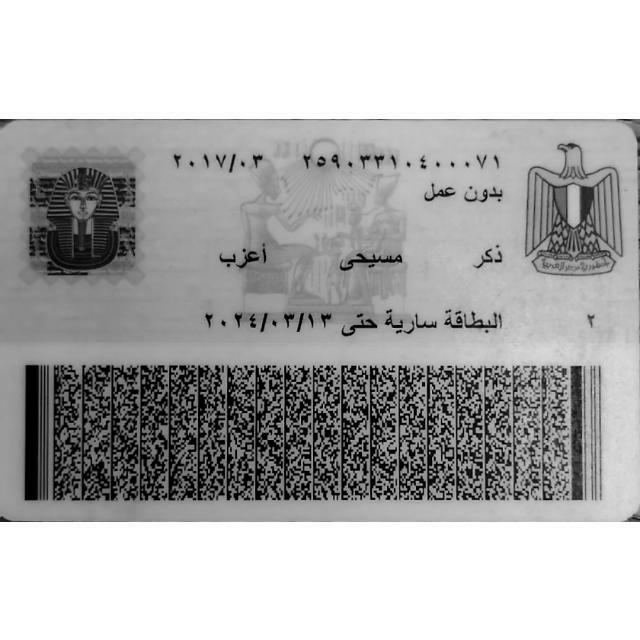id_card: (0, 119, 639, 519)
